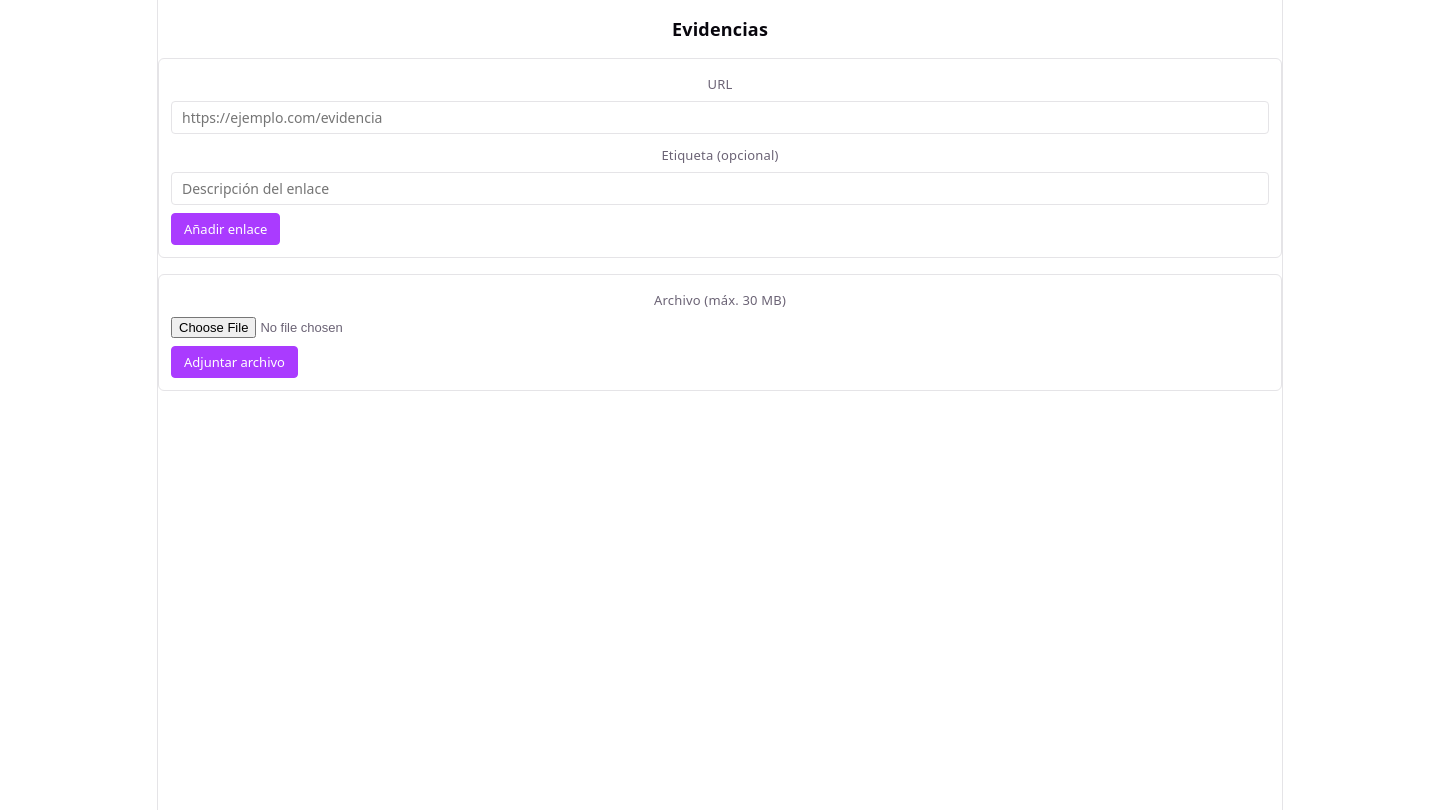
Scenario: EvidenceSection › shows error when adding an invalid URL
In the field labelled "URL": (720, 118) [171,101,1269,134], type "not-a-url"
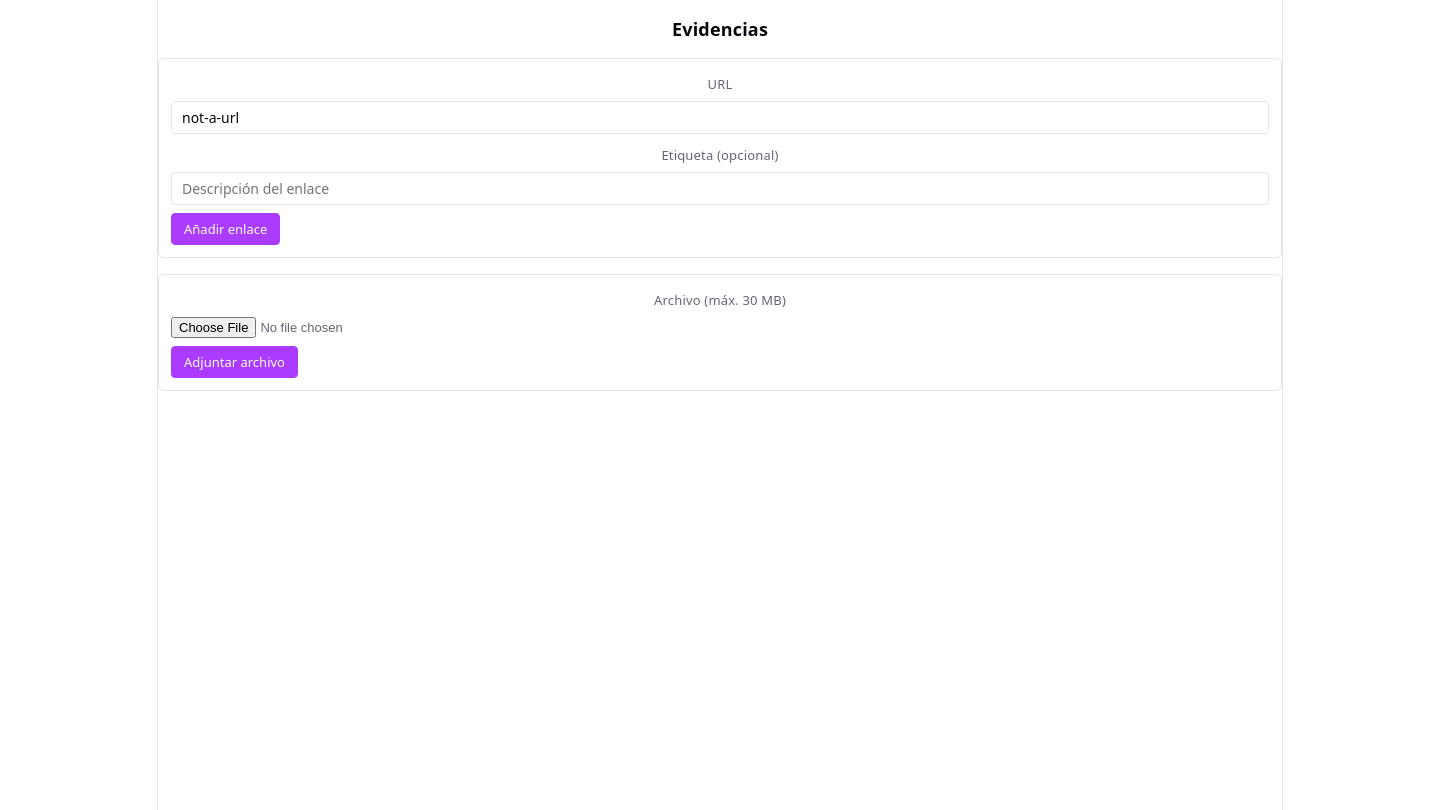
Click the button "Añadir enlace": (226, 229) [171,213,280,245]
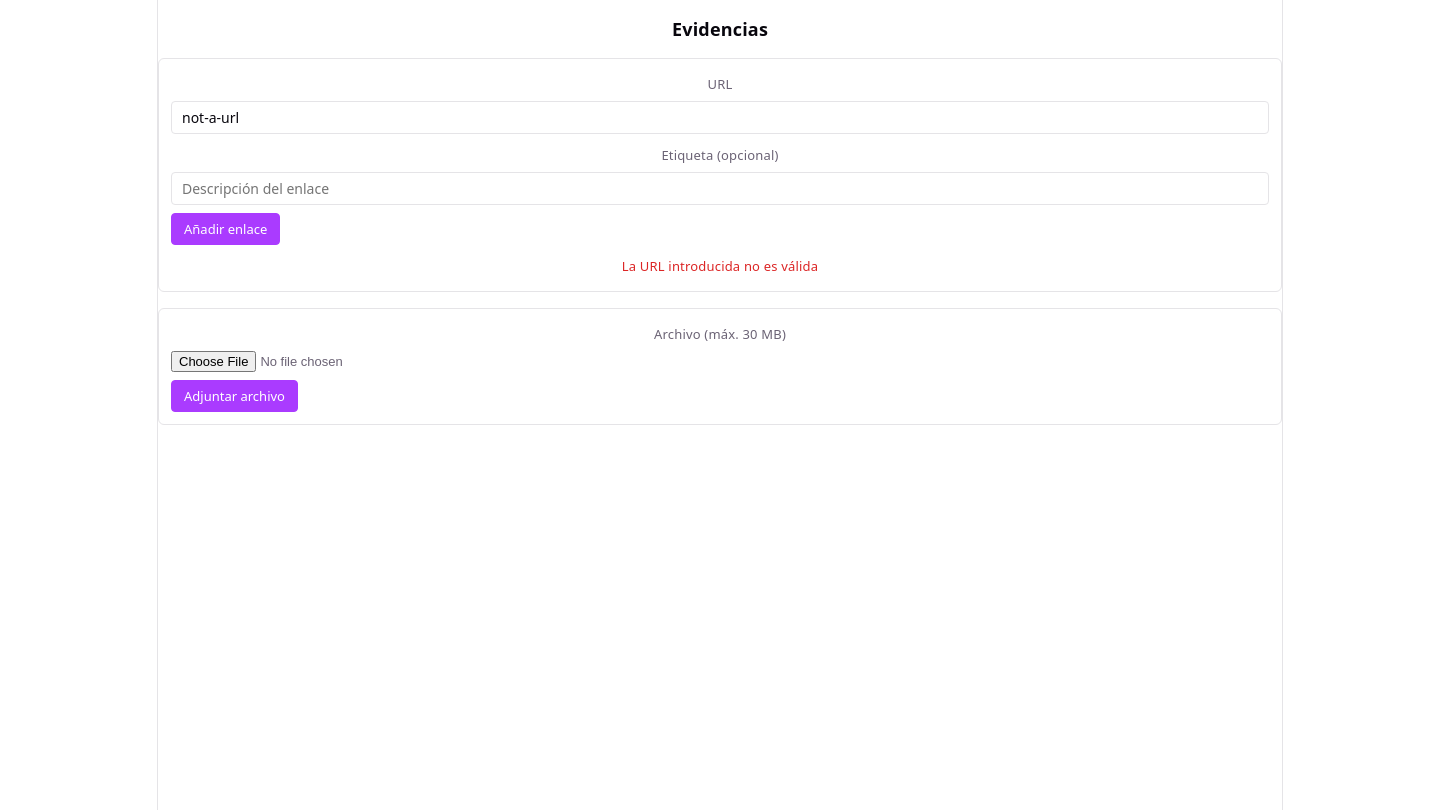
Result: the text "La URL introducida no es válida" is shown at [622,257,818,275]
